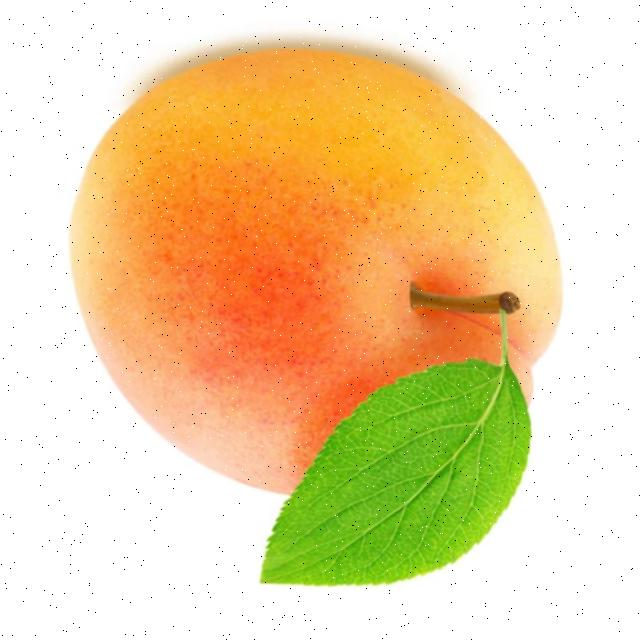kayisi: (52, 41, 580, 500)
kayisi yapragi: (246, 359, 564, 589)
